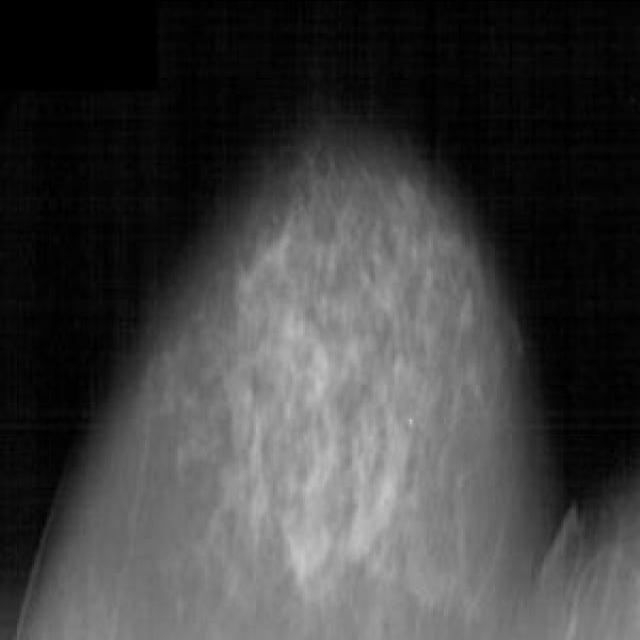tumor: (216, 229, 420, 588)
